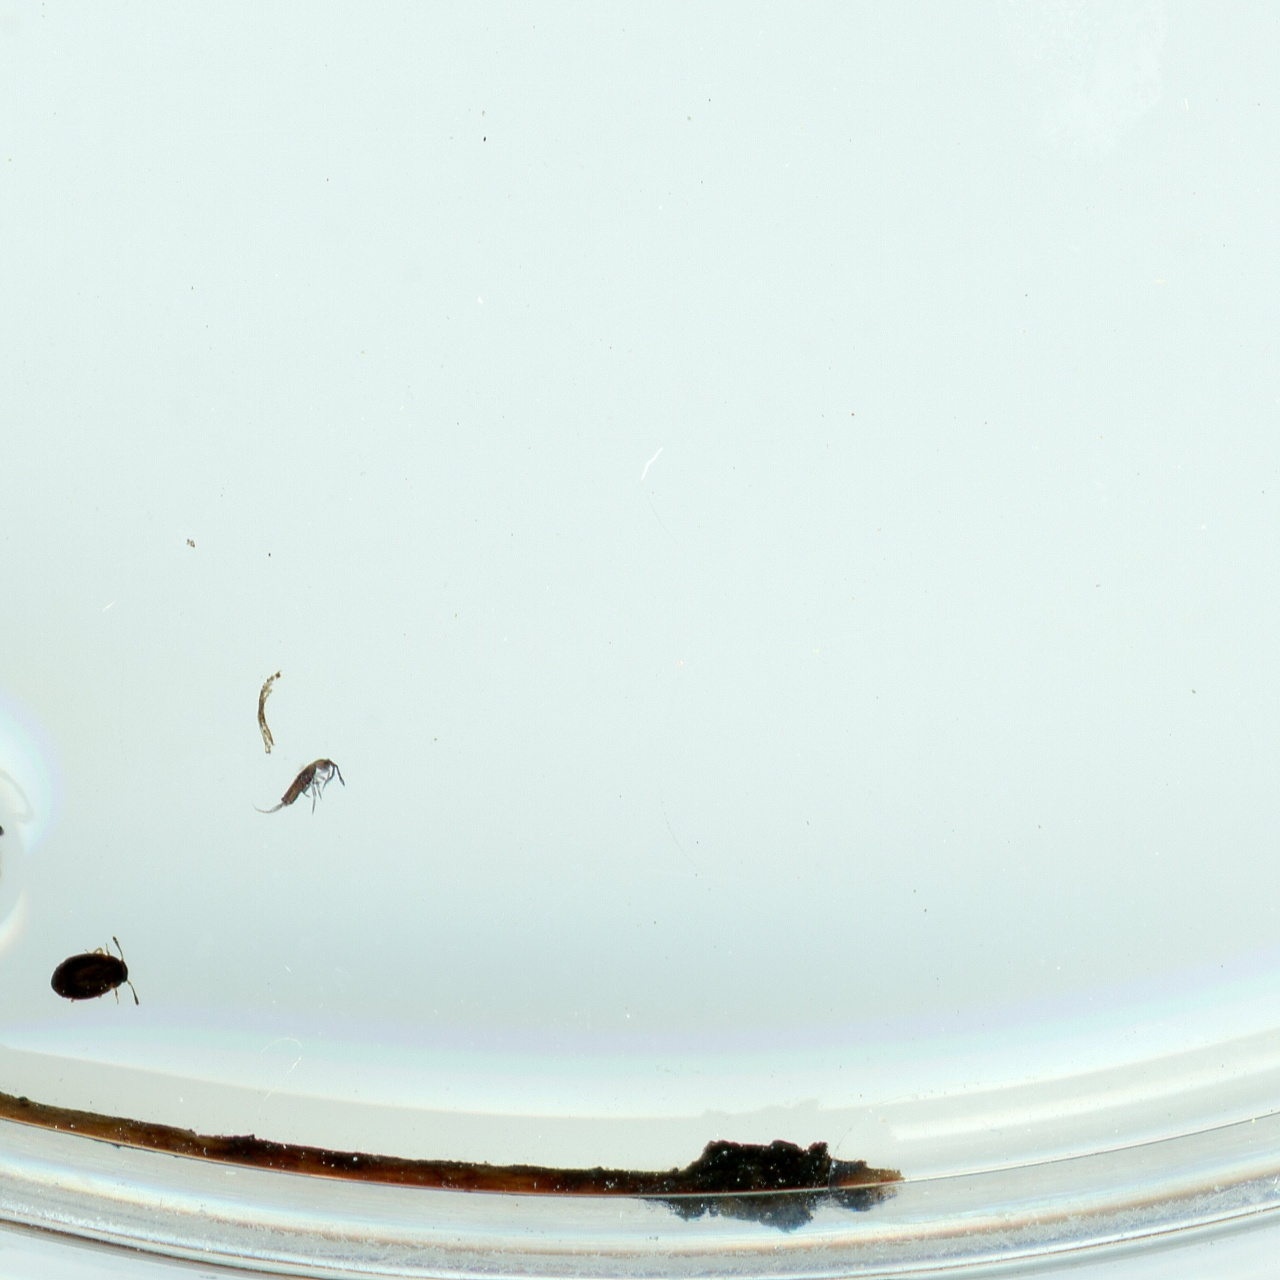arthropod: (35, 927, 158, 1023), (239, 744, 362, 837)
